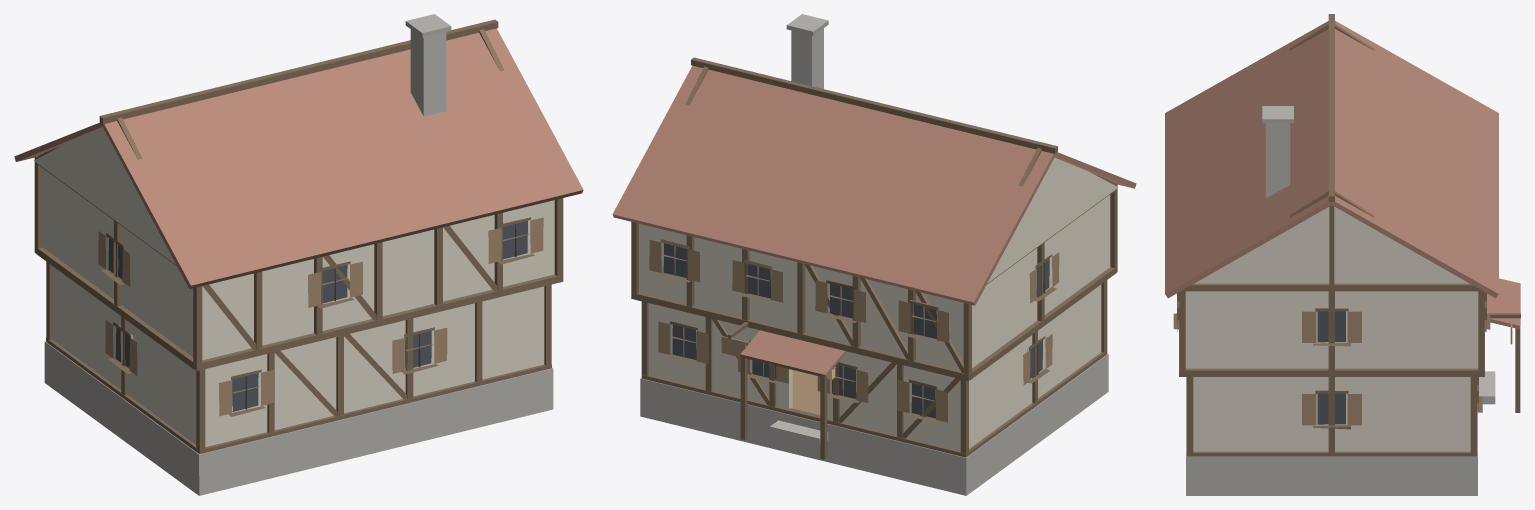
File: inn_lod1.glb
The picture shows the model from 3 angles, left to right: view 1: azimuth 30°, elevation 25°; view 2: azimuth 150°, elevation 25°; view 3: azimuth 270°, elevation 25°; orthographic projection. The views are drawn at different scales.
Parts seen in each view (by area): view 1: inn.001; view 2: inn.001; view 3: inn.001.
Boxes of the visible parts, box(x1,y1,x2,y2) form: inn.001: box(14, 14, 583, 495); inn.001: box(612, 14, 1136, 495); inn.001: box(1165, 14, 1520, 495).
Size of the model in its own units: 13.7 by 12.21 by 11.3.
